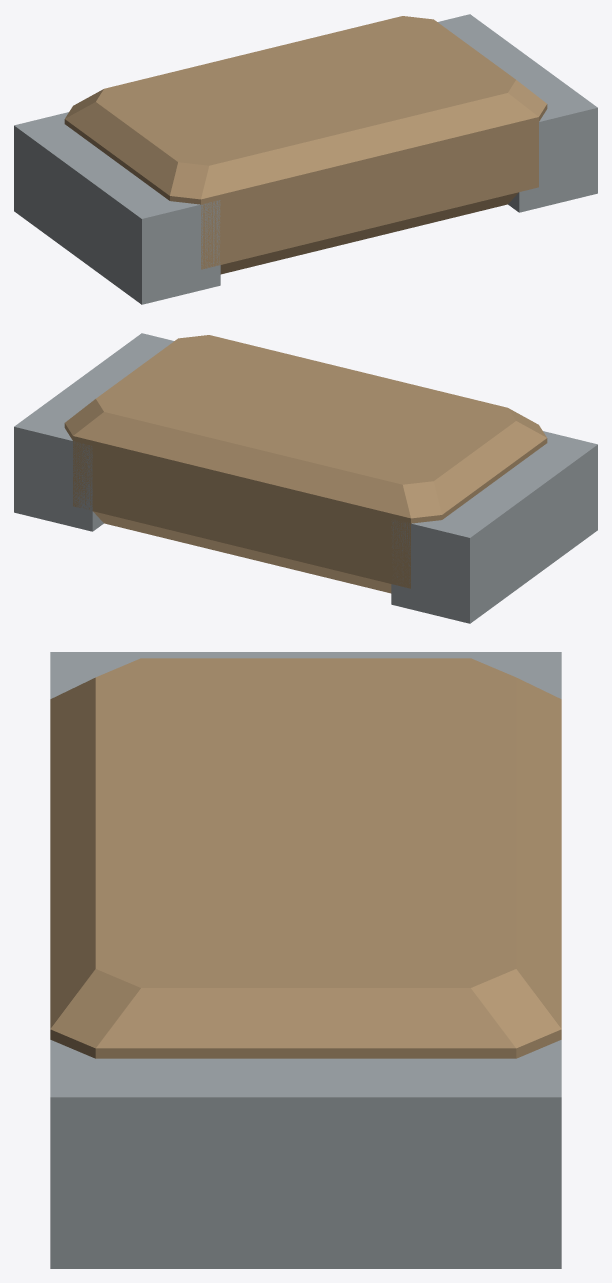
File: L128_SMD_0289.fbx
3 views of the same model, one above another, from view 1: azimuth 30°, elevation 25°; view 2: azimuth 150°, elevation 25°; view 3: azimuth 270°, elevation 25° (orthographic). The views are drawn at different scales.
Visible parts, largest first — view 1: SMD_0289__Ceramic, SMD_0289__Solder; view 2: SMD_0289__Ceramic, SMD_0289__Solder; view 3: SMD_0289__Ceramic, SMD_0289__Solder.
Part boxes in pixels (<box>): SMD_0289__Ceramic: <box>64,16,547,274</box>; SMD_0289__Solder: <box>14,14,597,304</box>; SMD_0289__Ceramic: <box>64,335,547,593</box>; SMD_0289__Solder: <box>14,333,597,623</box>; SMD_0289__Ceramic: <box>50,658,561,1058</box>; SMD_0289__Solder: <box>50,652,561,1268</box>.
Size of the model in its own units: 2.78 by 0.65 by 1.35.
